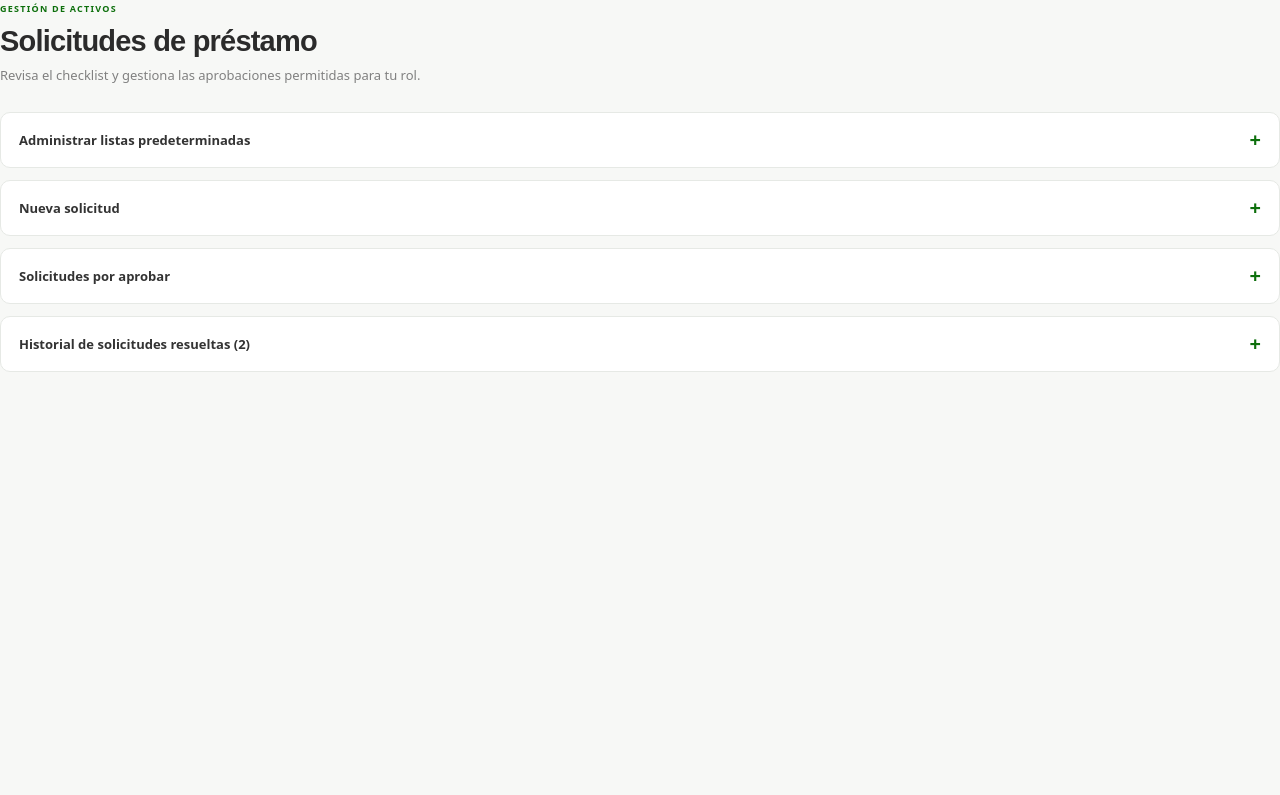
Scenario: Solicitudes de préstamo › mantiene solo solicitudes pendientes en la cola y separa el historial resuelto
Click the button "Solicitudes por aprobar +": (95, 276) [0,248,1279,304]
(page scrolled)
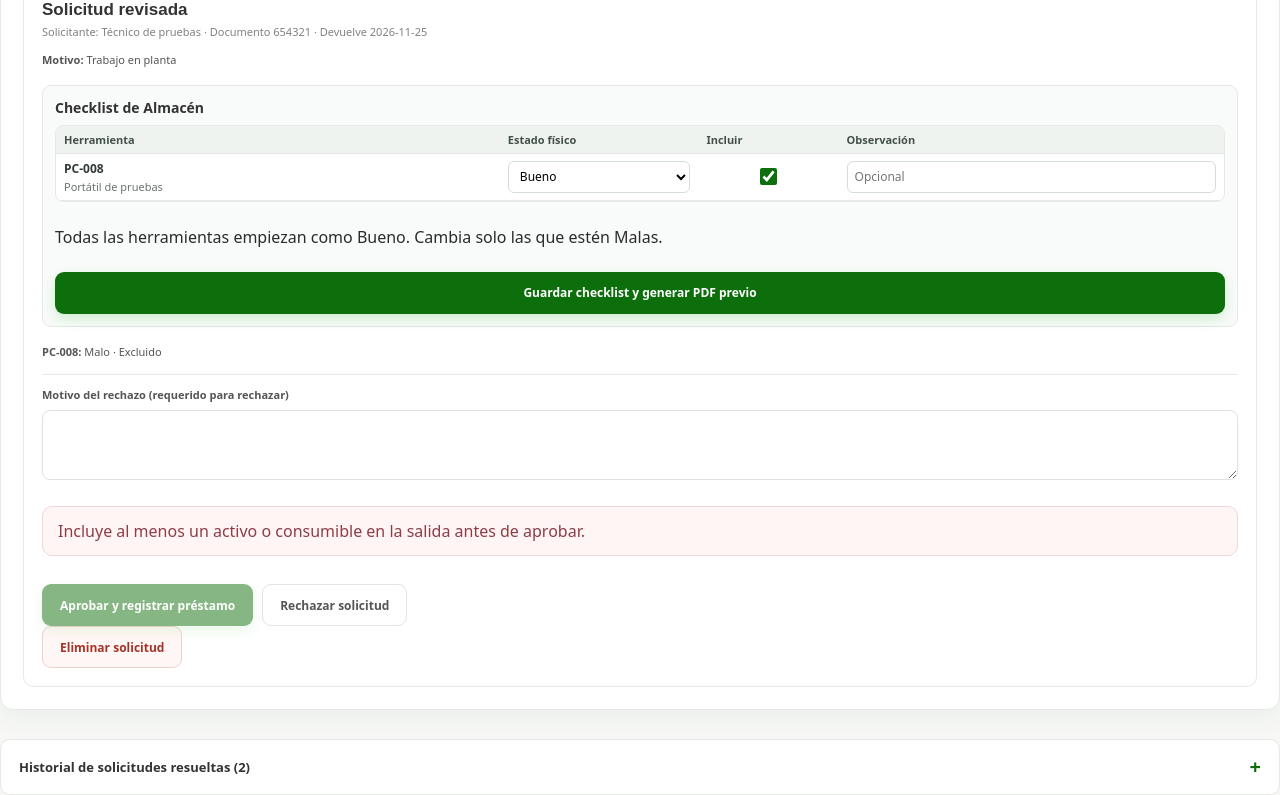
Expected: the text "SOLICITUD #3" is not shown
Expected: the text "SOLICITUD #4" is not shown
Click the button "Historial de solicitudes resueltas (2) +": (129, 767) [0,739,1279,794]
(page scrolled)
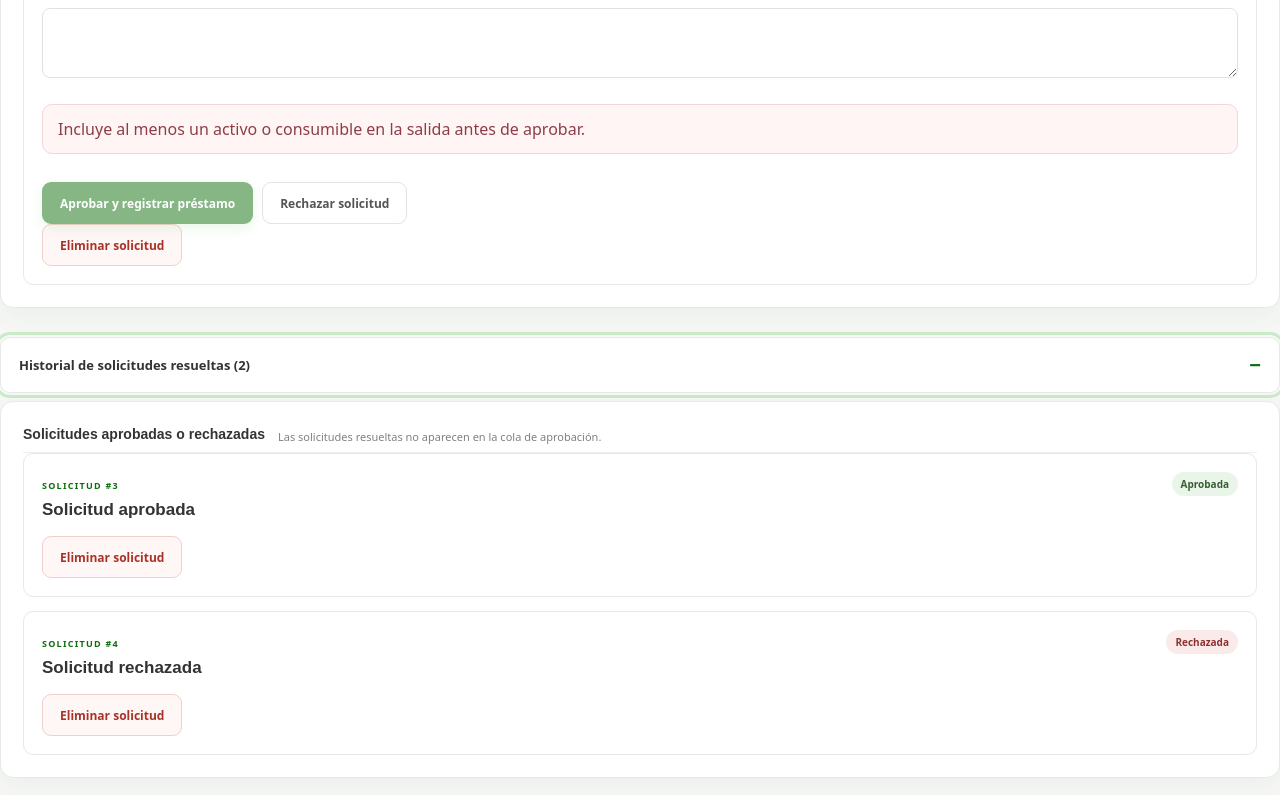
Expected: the text "SOLICITUD #3" is shown, [42,479,119,492]
Expected: the text "SOLICITUD #4" is shown, [42,637,119,650]
